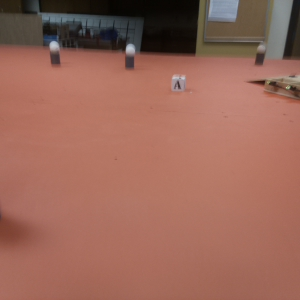obstacle: (46, 39, 63, 66), (122, 45, 137, 70), (255, 41, 266, 68)
side: (260, 82, 300, 99)
slope: (245, 73, 300, 82)
